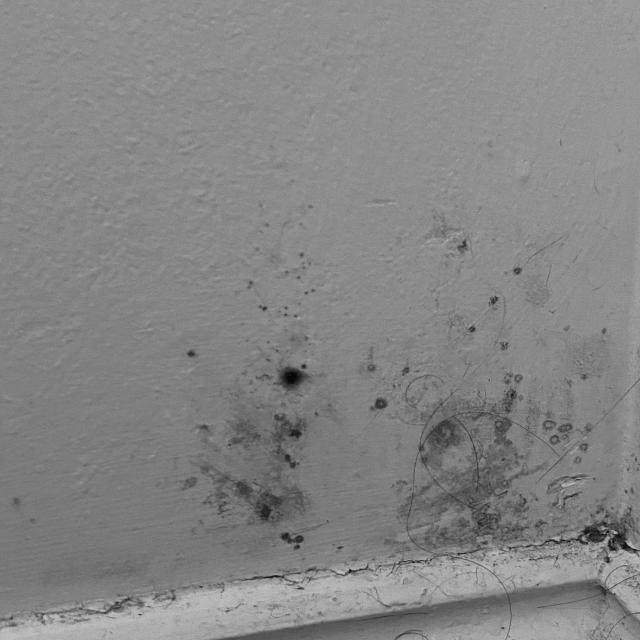stain marks: (357, 208, 640, 566), (148, 175, 348, 555), (5, 488, 160, 597)
